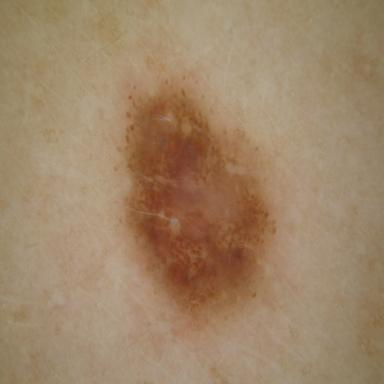nevus: (125, 81, 278, 322)
